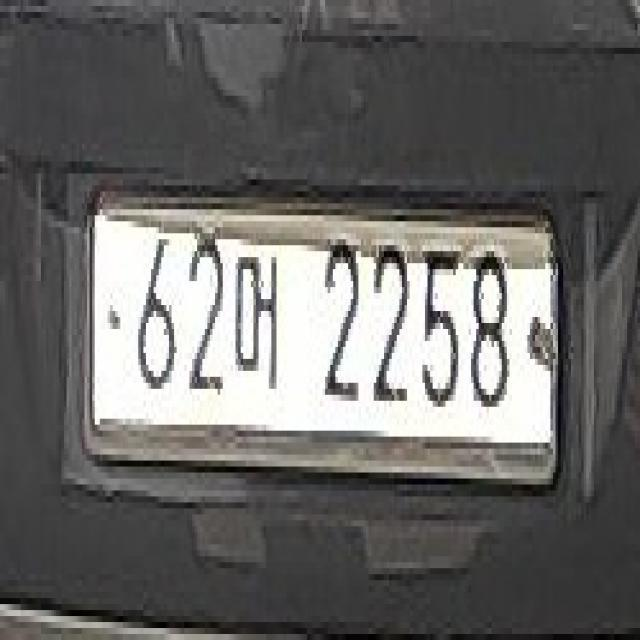2: (319, 220, 363, 414), (368, 232, 411, 414), (184, 232, 226, 396)
5: (416, 236, 462, 411)
6: (135, 228, 178, 390)
8: (468, 239, 512, 408)
license_plate: (78, 167, 564, 503)
meo: (232, 234, 284, 396)
